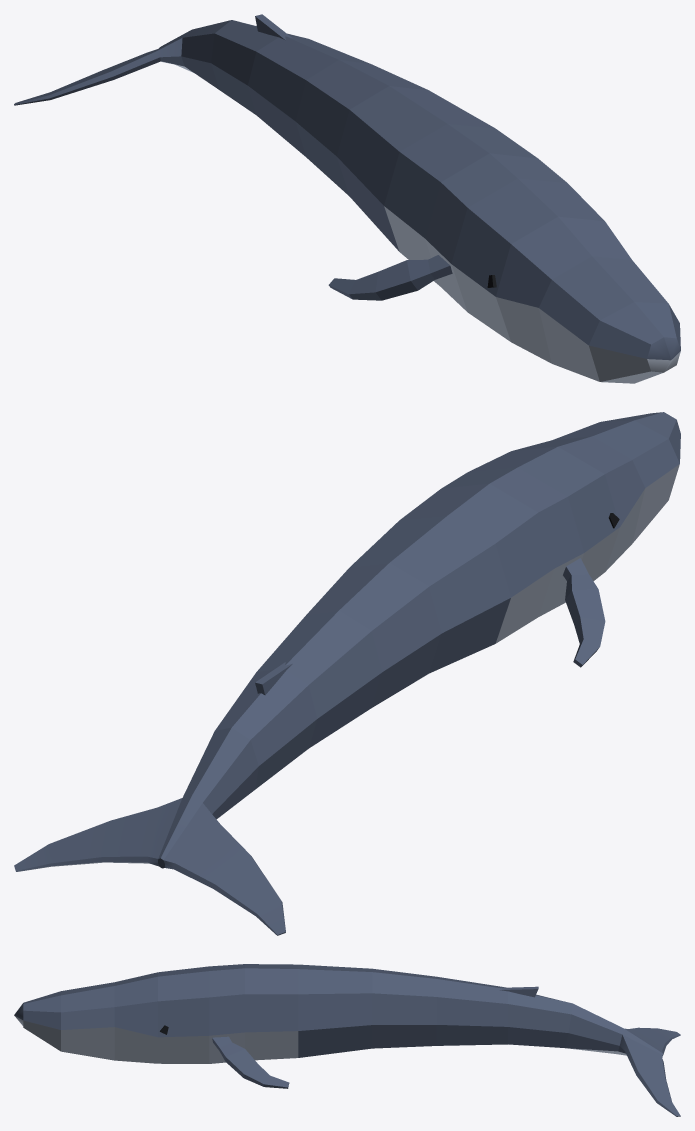
Rendered from Mesh_Whale.obj.
The picture shows the model from 3 angles, top to bottom: view 1: azimuth 30°, elevation 25°; view 2: azimuth 150°, elevation 25°; view 3: azimuth 270°, elevation 25°; orthographic projection. The views are drawn at different scales.
Parts seen in each view (by area): view 1: Geo_Whale; view 2: Geo_Whale; view 3: Geo_Whale.
Boxes of the visible parts, left/top/right/bottom form: Geo_Whale: left=14, top=14, right=680, bottom=383; Geo_Whale: left=14, top=412, right=680, bottom=935; Geo_Whale: left=14, top=964, right=680, bottom=1116.
Bounding box in the file's own units: 111 × 66.39 × 373.
Materials: 1 (1 with a texture image).
